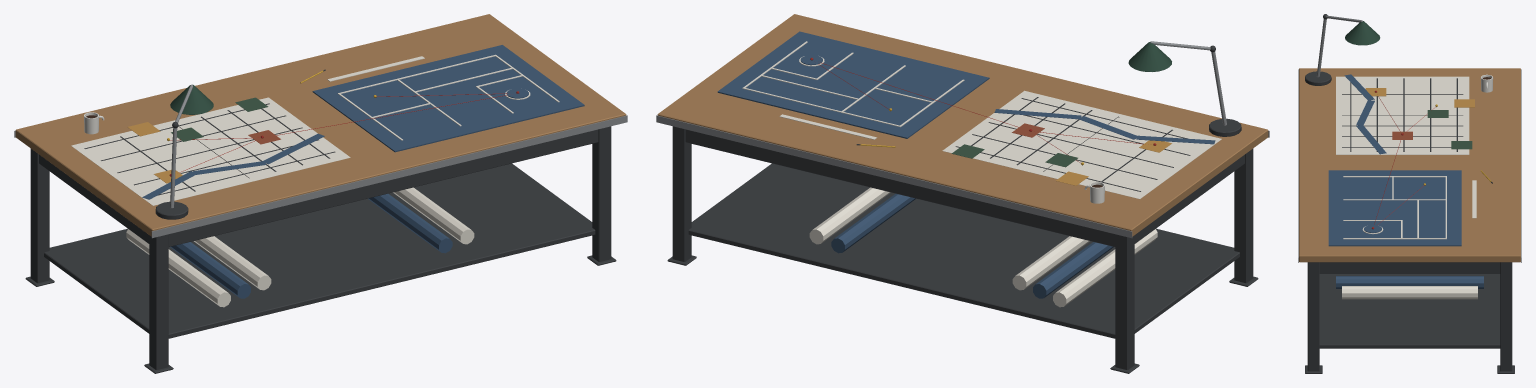
The model's file is prop_sh_planning_table.glb.
3 views of the same model, side by side, from view 1: azimuth 30°, elevation 25°; view 2: azimuth 150°, elevation 25°; view 3: azimuth 270°, elevation 25° (orthographic). The views are drawn at different scales.
Visible parts, largest first — view 1: Body; view 2: Body; view 3: Body.
Part boxes in pixels (x1=…): Body: x1=14, y1=14, x2=627, y2=373; Body: x1=656, y1=14, x2=1269, y2=373; Body: x1=1298, y1=14, x2=1521, y2=373.
Size of what is drawn, in the model's own units: 3.01 by 1.49 by 1.51.
